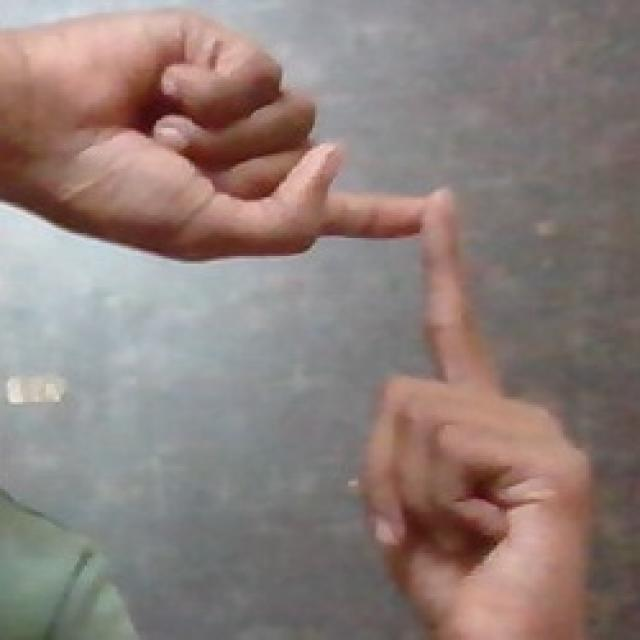Alphabet-E: (4, 15, 422, 261)
